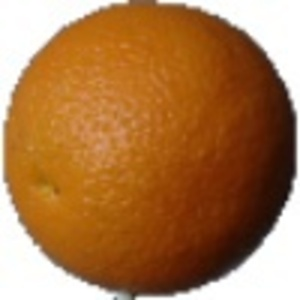laranja: (5, 3, 295, 296)
